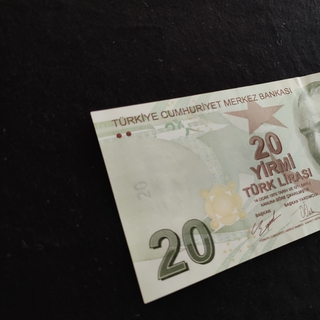20TLFront: (89, 60, 320, 303)
